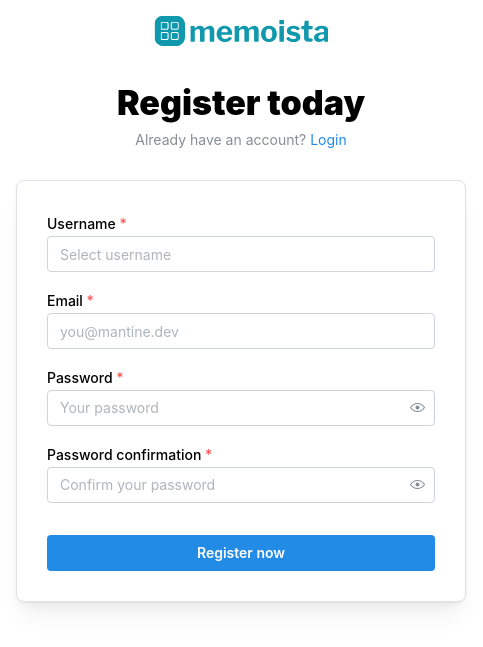
RegisterForm › should display validation errors on password confirmation field
In the password field labelled "Password confirmation *": x=241, y=485 [48,468,434,502], type "test"
Press Tab
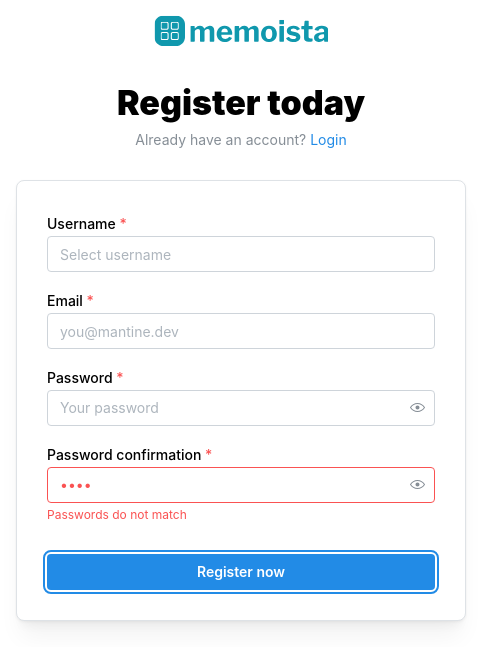
Expected: the text "Passwords do not match" is shown, [47,507,187,522]
Clear the password field labelled "Password confirmation *": x=241, y=485 [48,468,434,502]
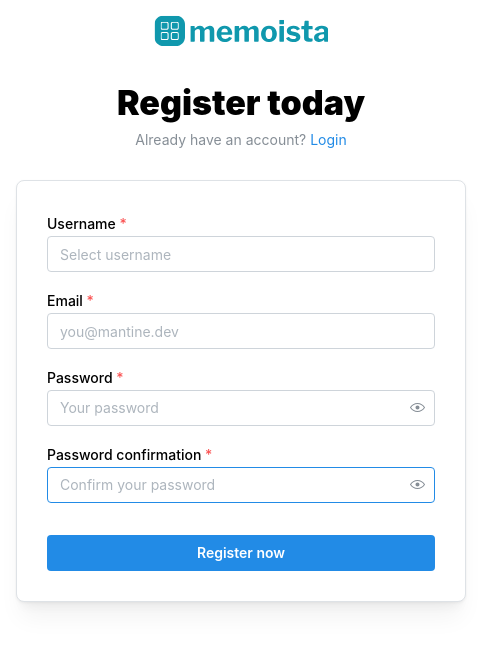
Press Tab
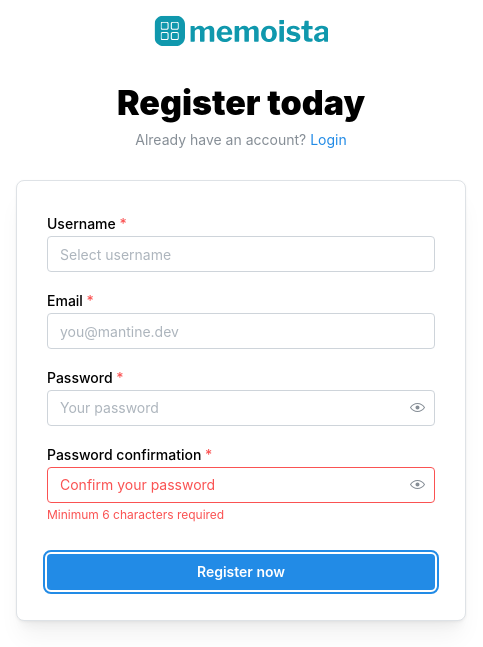
Expected: the text "Minimum 6 characters required" is shown, [47,507,224,522]
In the password field labelled "Password *": x=241, y=408 [48,391,434,425], type "test-password"
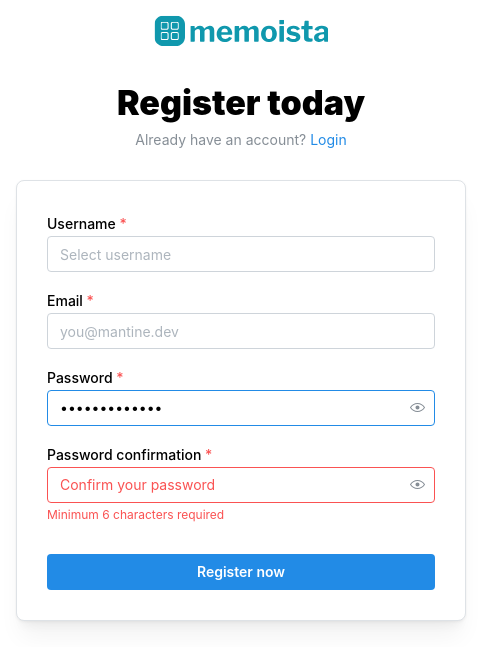
In the password field labelled "Password confirmation *": x=241, y=485 [48,468,434,502], type "other-password"
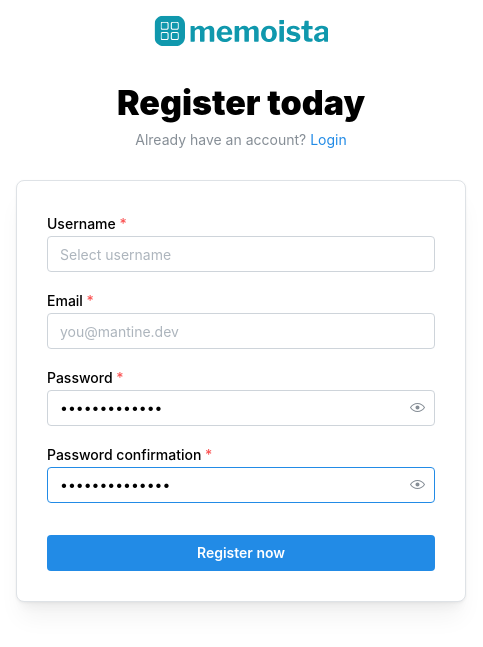
Press Tab
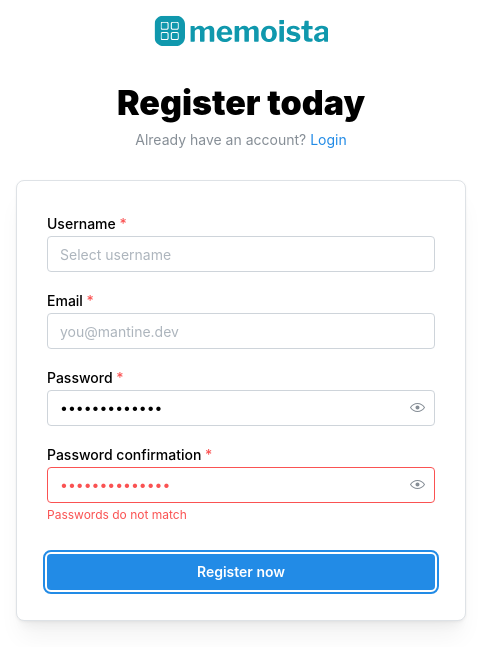
Expected: the text "Passwords do not match" is shown, [47,507,187,522]
